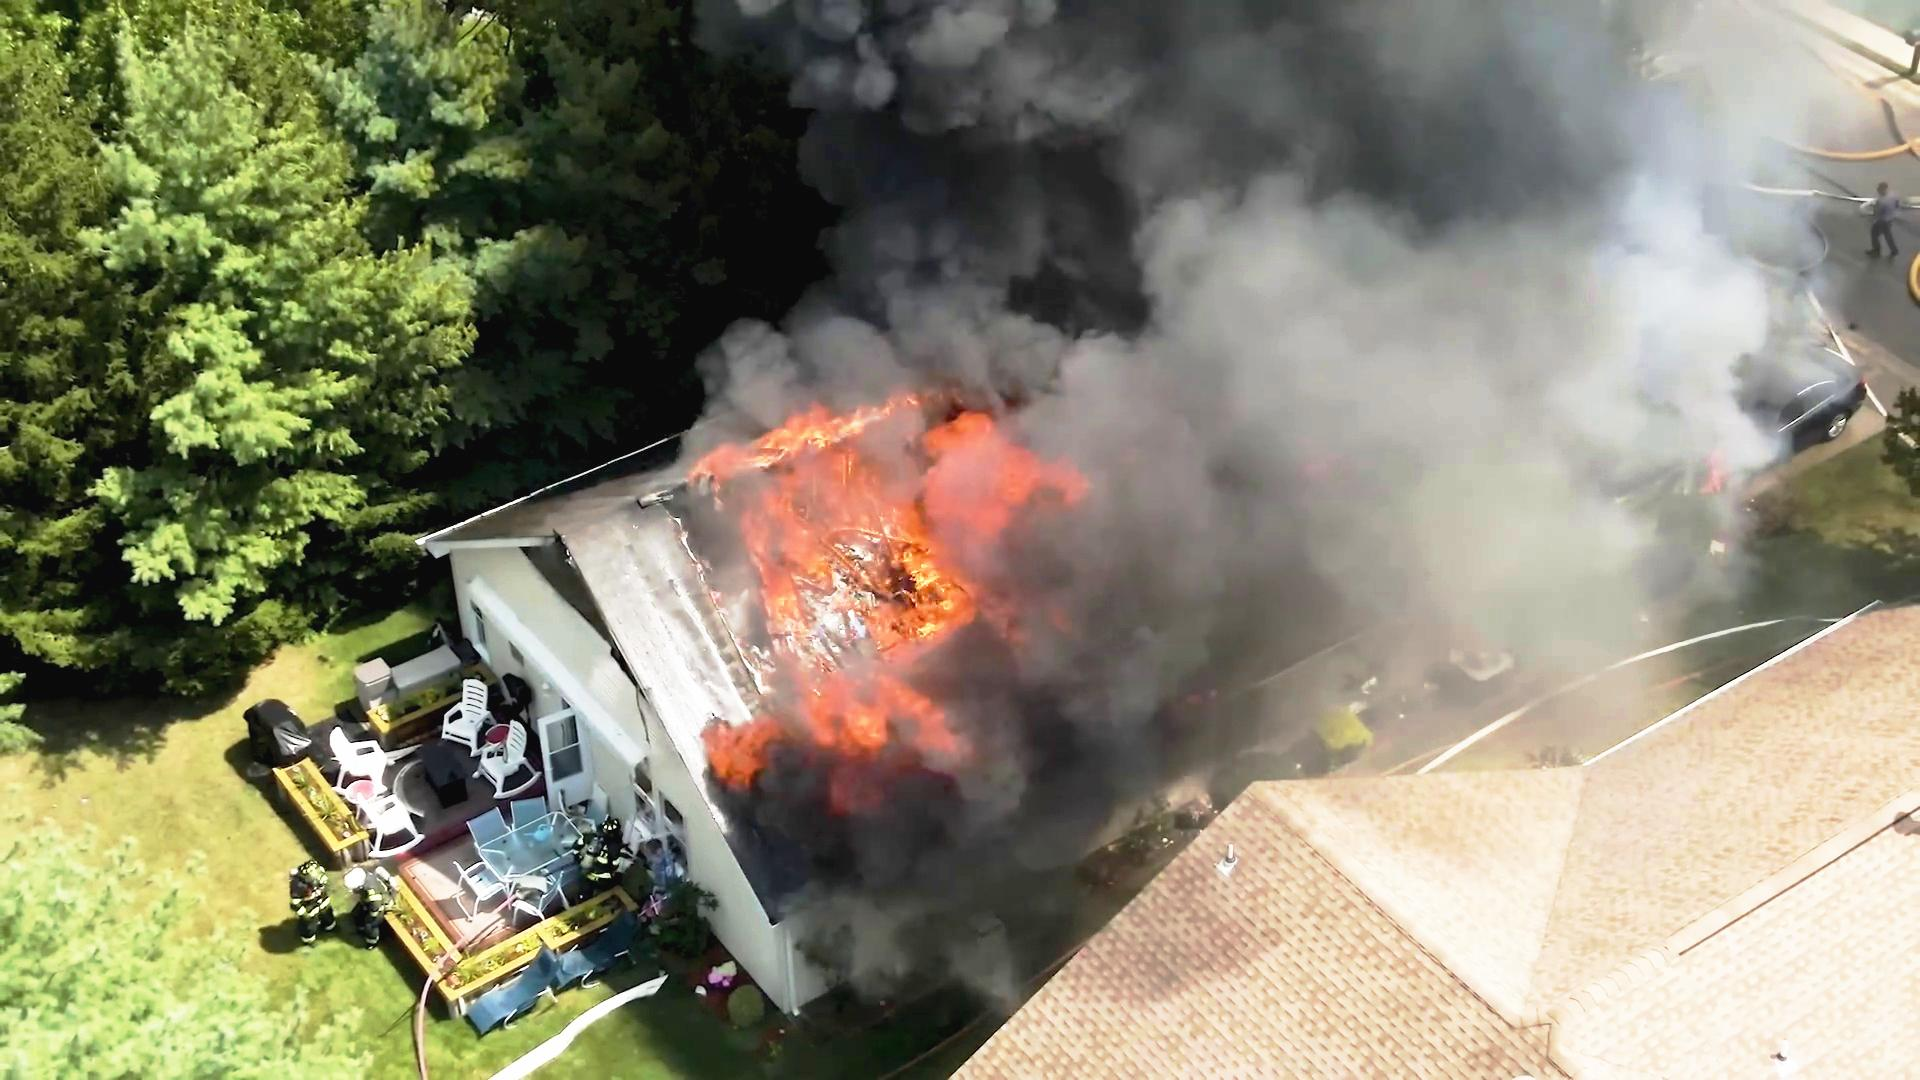fire: (725, 429, 981, 658)
smoke: (1065, 8, 1756, 298), (1175, 231, 1601, 588)
